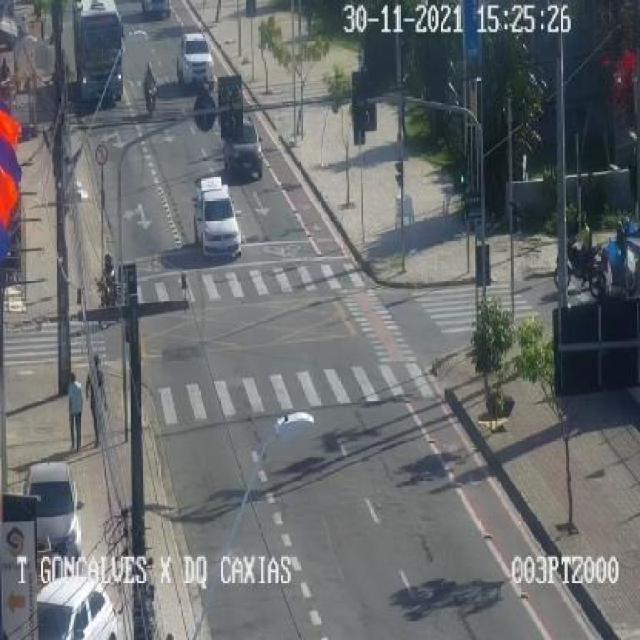Bus: (73, 0, 127, 99)
Car: (21, 458, 89, 564), (30, 576, 118, 640), (220, 116, 266, 180), (176, 31, 215, 92)
Van: (190, 177, 245, 257)
